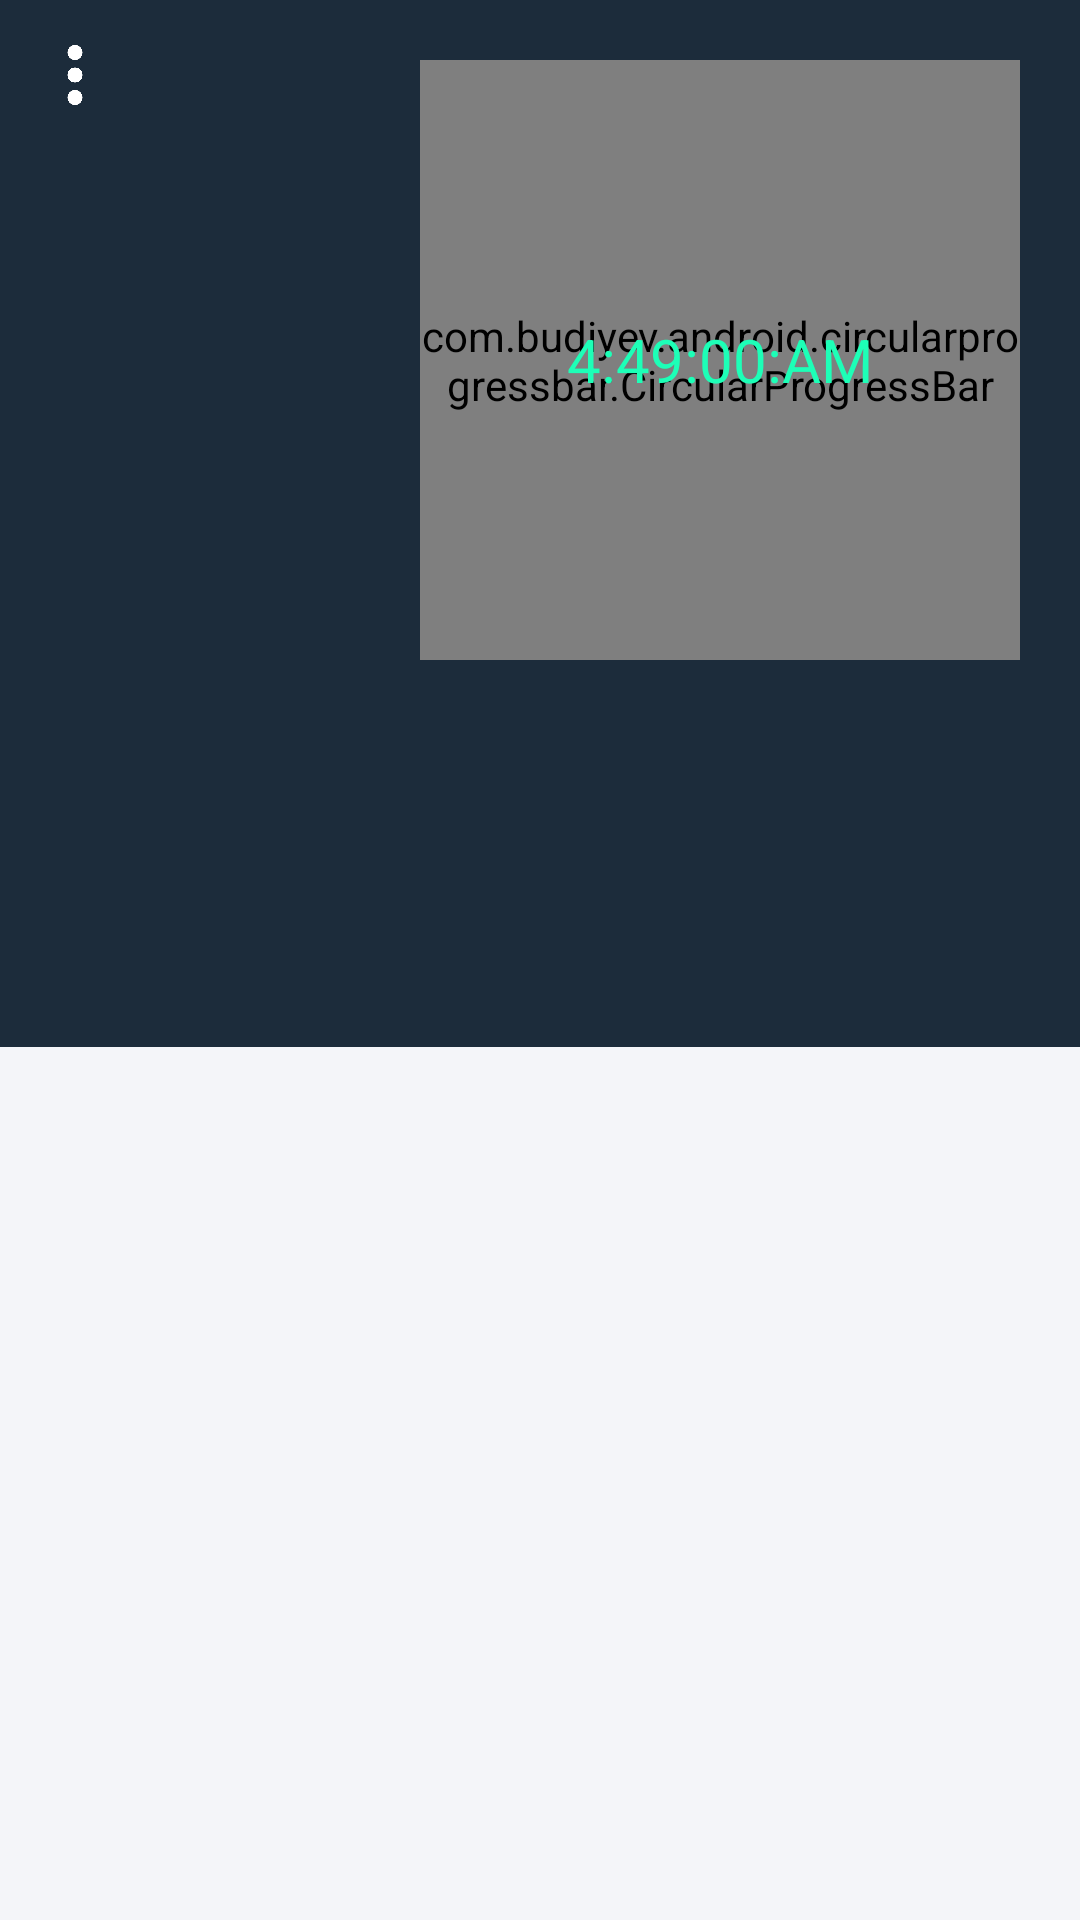

Named icons in this screenshot (1080*1920) and their centers, [x,y]:
menu: [75,75]
